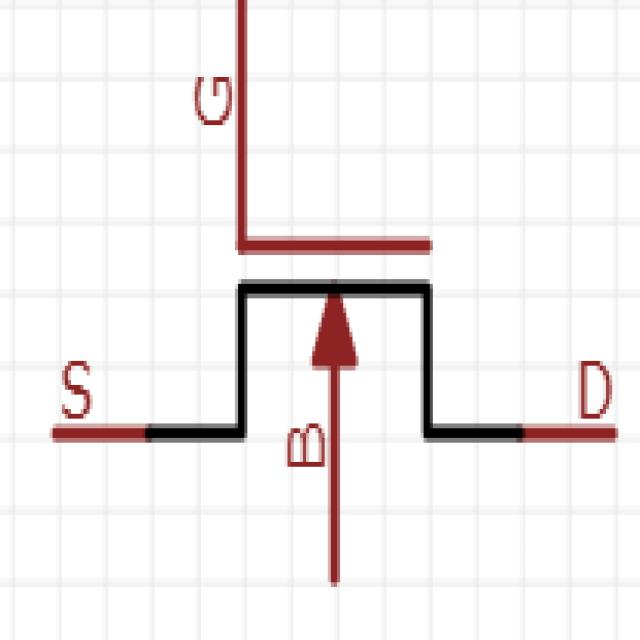nmos: (22, 14, 630, 587)
